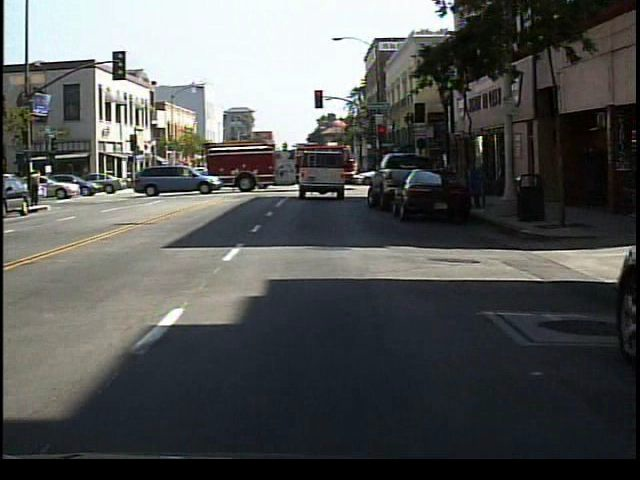person: (30, 167, 45, 207)
